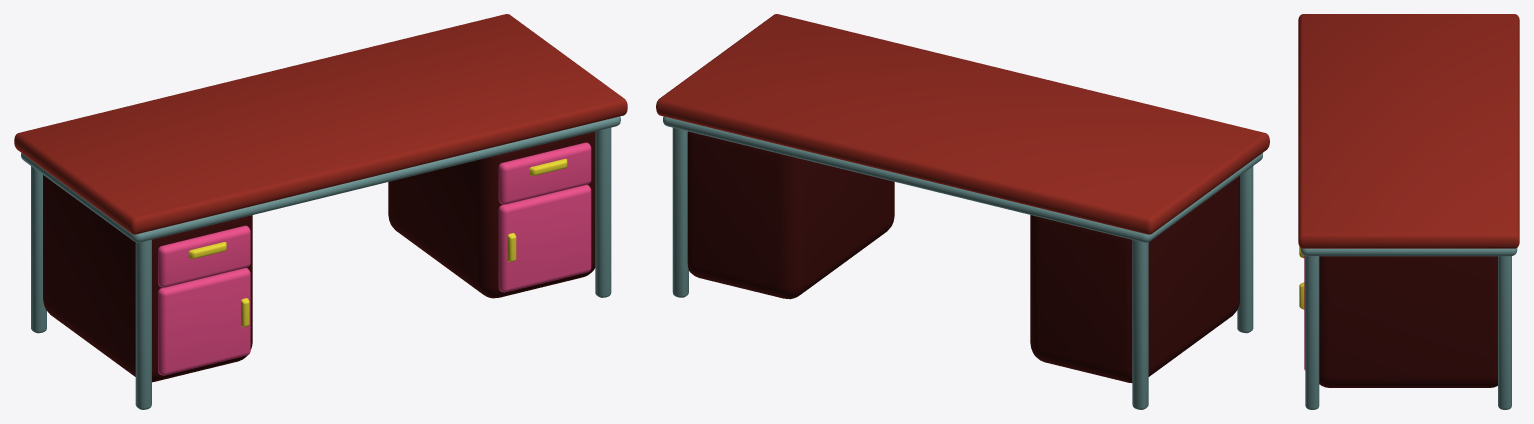
File: Desk_01.fbx
3 renders of one model, left to right at view 1: azimuth 30°, elevation 25°; view 2: azimuth 150°, elevation 25°; view 3: azimuth 270°, elevation 25°, orthographic. The views are drawn at different scales.
Parts seen in each view (by area): view 1: SM_Prop_Desk_04.005; view 2: SM_Prop_Desk_04.005; view 3: SM_Prop_Desk_04.005.
Boxes of the visible parts, x1,y1,x2,y2 form: SM_Prop_Desk_04.005: (14, 14, 627, 409); SM_Prop_Desk_04.005: (656, 14, 1269, 409); SM_Prop_Desk_04.005: (1298, 14, 1519, 409).
Bounding box in the file's own units: 206 × 78.66 × 86.67.
